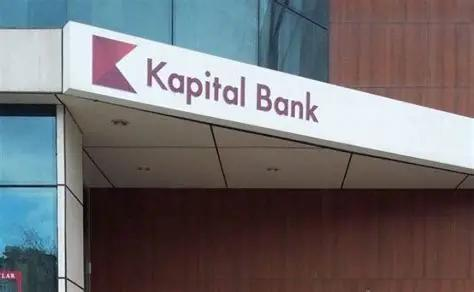Kapital Bank: (90, 32, 140, 95)
